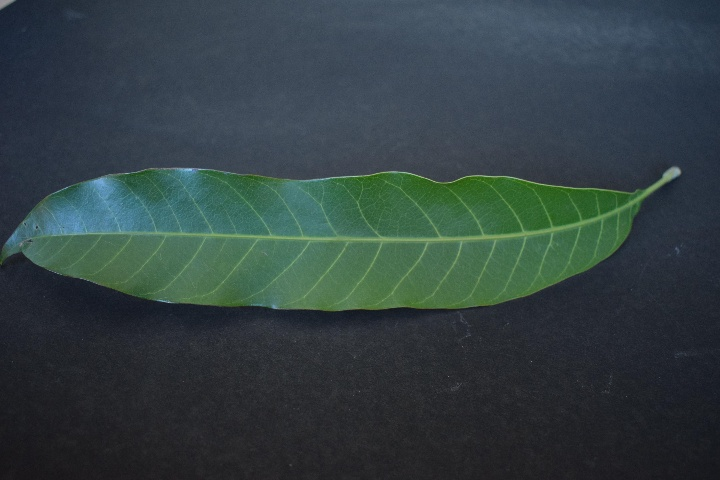healthy: (36, 164, 649, 316)
